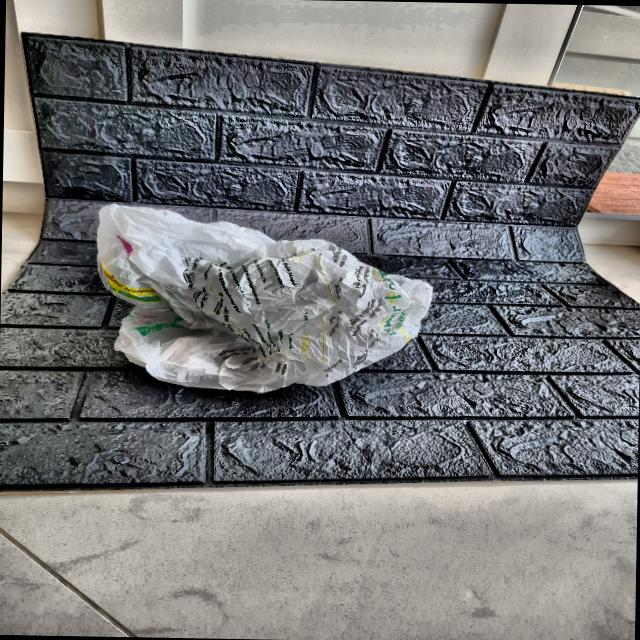plastic bag: (89, 200, 438, 398)
